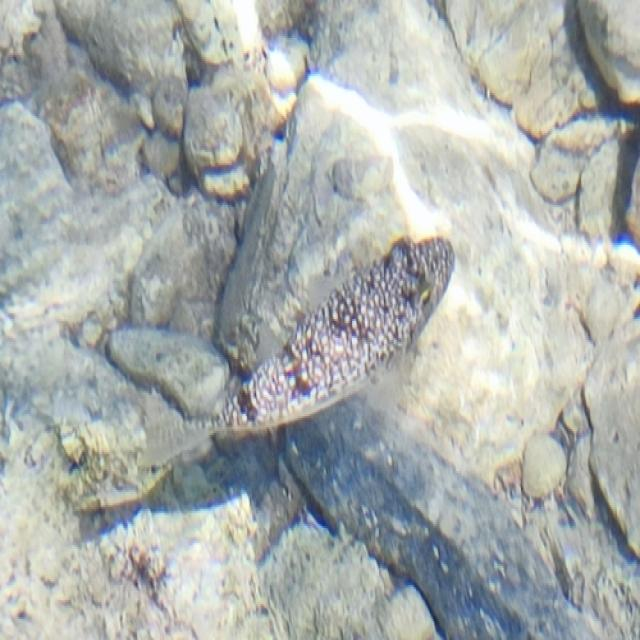Balik: (148, 238, 454, 463)
